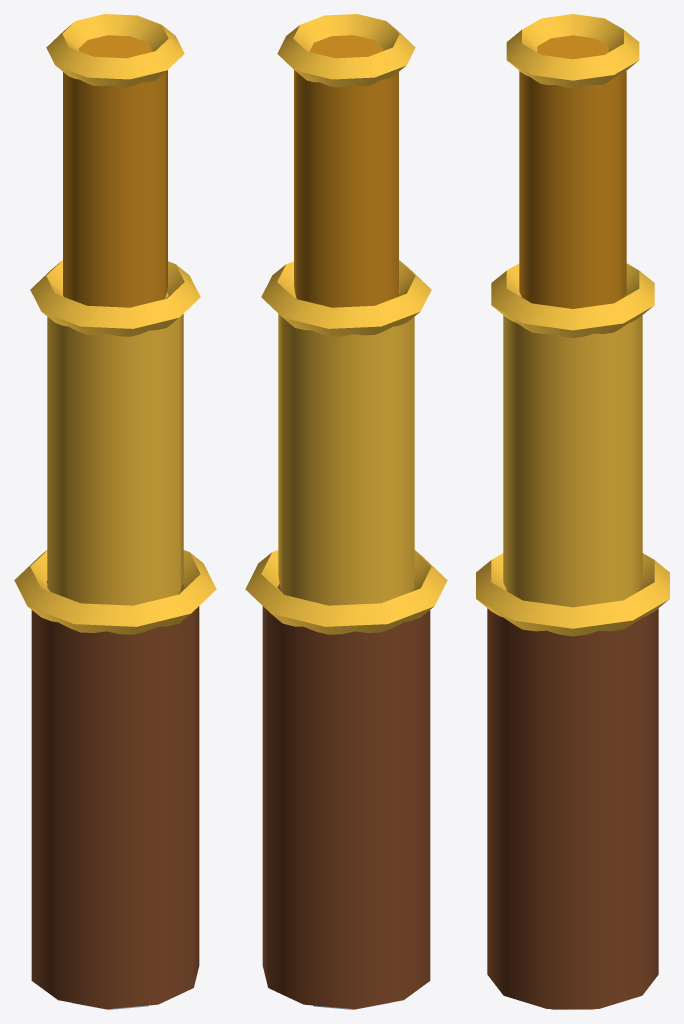
File: Spyglass.fbx
The picture shows the model from 3 angles, left to right: view 1: azimuth 30°, elevation 25°; view 2: azimuth 150°, elevation 25°; view 3: azimuth 270°, elevation 25°; orthographic projection.
Parts seen in each view (by area): view 1: Spyglass; view 2: Spyglass; view 3: Spyglass.
Boxes of the visible parts, left/top/right/bottom form: Spyglass: left=14, top=14, right=216, bottom=1009; Spyglass: left=245, top=14, right=447, bottom=1009; Spyglass: left=476, top=14, right=669, bottom=1009.
Bounding box in the file's own units: 0.38 × 1.95 × 0.3614.
1 material, 1 textured.
